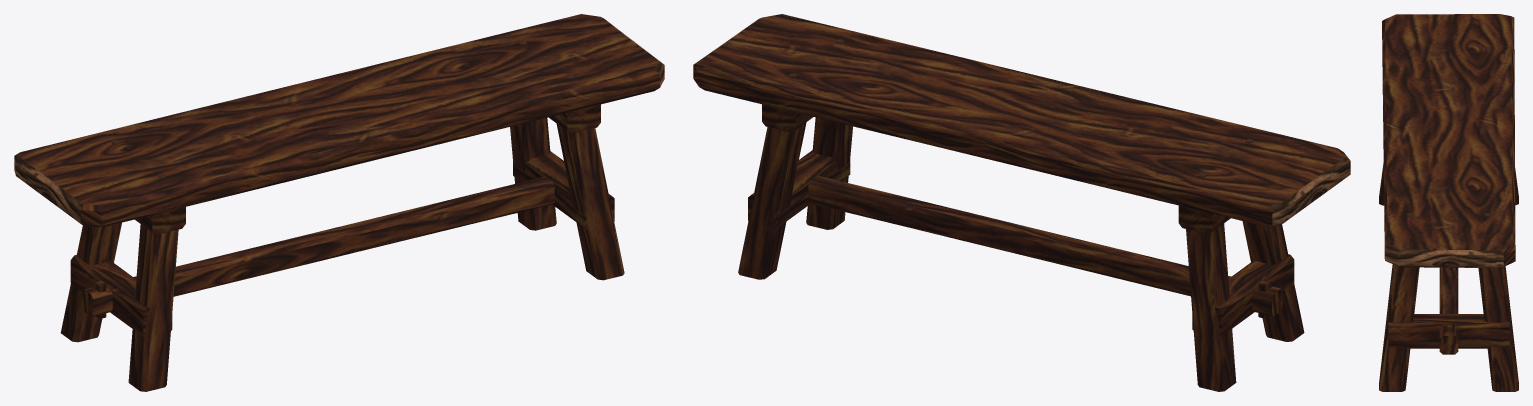
The model's file is Banco-de-Madeira.glb.
The picture shows the model from 3 angles, left to right: view 1: azimuth 30°, elevation 25°; view 2: azimuth 150°, elevation 25°; view 3: azimuth 270°, elevation 25°; orthographic projection. The views are drawn at different scales.
Visible parts, largest first — view 1: Assento de tábua, Pés abertos, Tirante central, Travessas dos pés, Apoios do assento; view 2: Assento de tábua, Pés abertos, Tirante central, Travessas dos pés, Apoios do assento; view 3: Assento de tábua, Pés abertos, Travessas dos pés, Tirante central.
Boxes of the visible parts, x1,y1,x2,y2 form: Assento de tábua: (14,14,664,226); Pés abertos: (60,118,624,391); Tirante central: (82,176,554,316); Travessas dos pés: (70,151,614,336); Apoios do assento: (135,104,600,234); Assento de tábua: (693,14,1350,227); Pés abertos: (738,117,1304,391); Tirante central: (808,175,1282,316); Travessas dos pés: (748,150,1294,336); Apoios do assento: (762,104,1230,234); Assento de tábua: (1382,14,1515,267); Pés abertos: (1379,163,1518,391); Travessas dos pés: (1388,314,1509,348); Tirante central: (1439,267,1458,354).
Size of the model in its own units: 1.43 by 0.451 by 0.353.
Materials: 2 (2 with a texture image).
